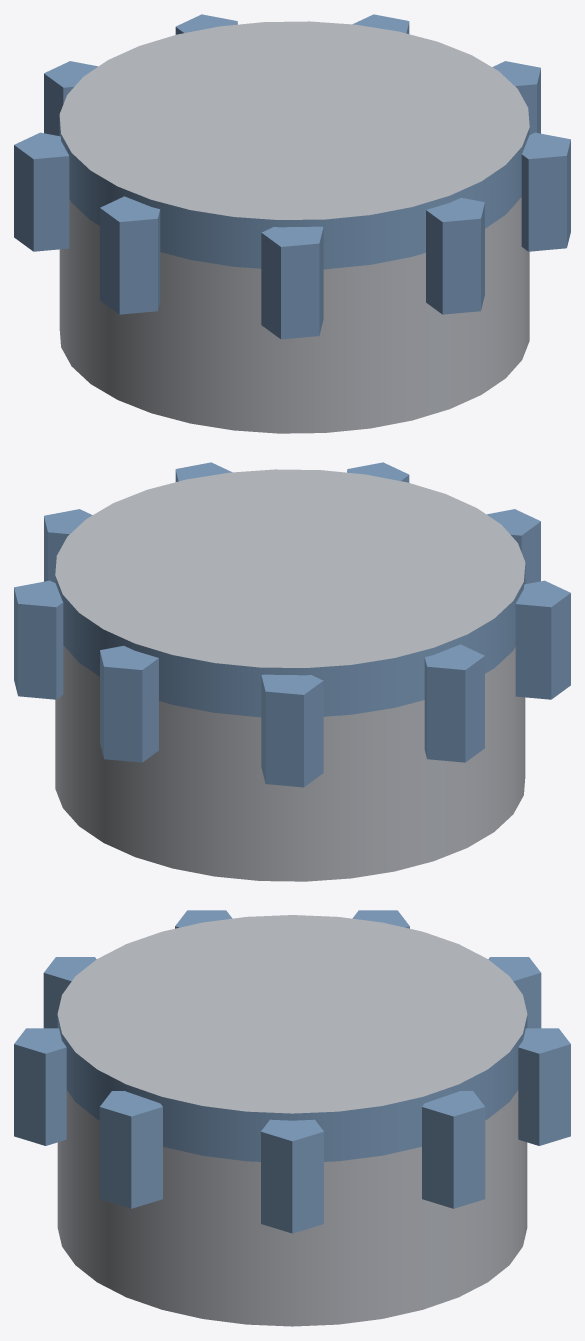
3 renders of one model, top to bottom at view 1: azimuth 30°, elevation 25°; view 2: azimuth 150°, elevation 25°; view 3: azimuth 270°, elevation 25°, orthographic.
Parts seen in each view (by area): view 1: ratchet_9-60; view 2: ratchet_9-60; view 3: ratchet_9-60.
Boxes of the visible parts, x1=… form: ratchet_9-60: x1=14, y1=14, x2=570, y2=433; ratchet_9-60: x1=14, y1=462, x2=570, y2=881; ratchet_9-60: x1=14, y1=910, x2=570, y2=1326.
Size of the model in its own units: 13.95 by 6 by 14.22.
